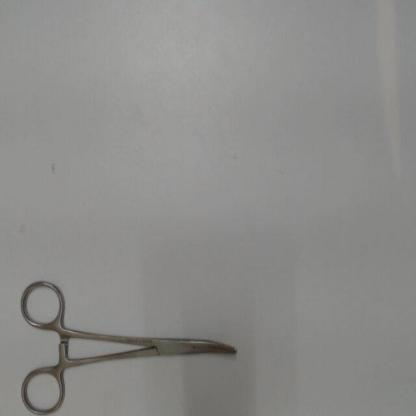Crile Artery Forceps: (18, 268, 243, 416)
